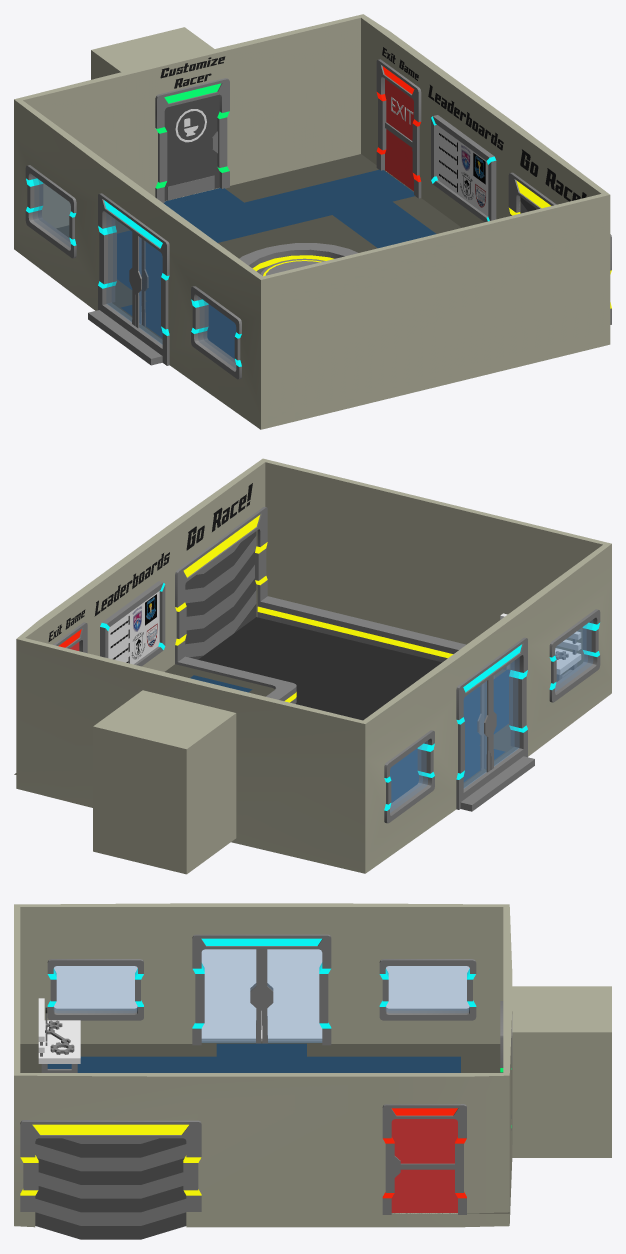
File: Garage without Ceiling.fbx
3 renders of one model, top to bottom at view 1: azimuth 30°, elevation 25°; view 2: azimuth 150°, elevation 25°; view 3: azimuth 270°, elevation 25°, orthographic.
Parts seen in each view (by area): view 1: Building Wall, Walkway, Ground Floor, Rest Room Door, Door Frame, Cube, Restroom, Rest Room Door Frame, Glass Door 1, Exit Door, Glass Door 2, Exit Door Frame (+9 smaller); view 2: Building Wall, Restroom, Lower Floor, Object, Garage Door, Door Frame, Walkway, Ground Floor, Garage Door Frame, Cube, Glass Door 2, Glass Door 1 (+8 smaller); view 3: Building Wall, Restroom, Garage Door, Walkway, Ground Floor, Exit Door, Garage Door Frame, Glass Door 2, Glass Door 1, Door Frame, Glass Window 2, Glass Window 1 (+4 smaller).
Boxes of the visible parts, box(x1,y1,x2,y2) form: Building Wall: box(14, 14, 610, 429); Walkway: box(117, 169, 435, 358); Ground Floor: box(56, 154, 461, 365); Rest Room Door: box(164, 94, 219, 200); Door Frame: box(98, 193, 169, 365); Cube: box(431, 115, 496, 221); Restroom: box(91, 27, 213, 79); Rest Room Door Frame: box(155, 78, 229, 203); Glass Door 1: box(106, 213, 141, 325); Exit Door: box(385, 79, 413, 190); Glass Door 2: box(135, 234, 162, 344); Exit Door Frame: box(376, 59, 421, 198); Building Wall: box(16, 458, 611, 873); Restroom: box(93, 690, 236, 874); Lower Floor: box(198, 617, 441, 720); Object: box(175, 596, 465, 703); Garage Door: box(185, 531, 256, 659); Door Frame: box(456, 637, 527, 809); Walkway: box(190, 669, 510, 802); Ground Floor: box(14, 664, 566, 811); Garage Door Frame: box(175, 507, 267, 661); Cube: box(100, 581, 165, 666); Glass Door 2: box(484, 658, 519, 769); Glass Door 1: box(464, 678, 490, 788); Building Wall: box(14, 903, 512, 1227); Restroom: box(512, 986, 611, 1157); Garage Door: box(35, 1138, 186, 1239); Walkway: box(47, 1043, 460, 1072); Ground Floor: box(20, 1038, 509, 1213); Exit Door: box(391, 1119, 457, 1212); Garage Door Frame: box(20, 1120, 201, 1211); Glass Door 2: box(202, 949, 261, 1043); Glass Door 1: box(262, 949, 321, 1043); Door Frame: box(192, 934, 331, 1045); Glass Window 2: box(54, 966, 137, 1012); Glass Window 1: box(386, 966, 469, 1012).
Size of the model in its own units: 14.24 by 6 by 19.81.
Materials: 22 (4 with a texture image).
